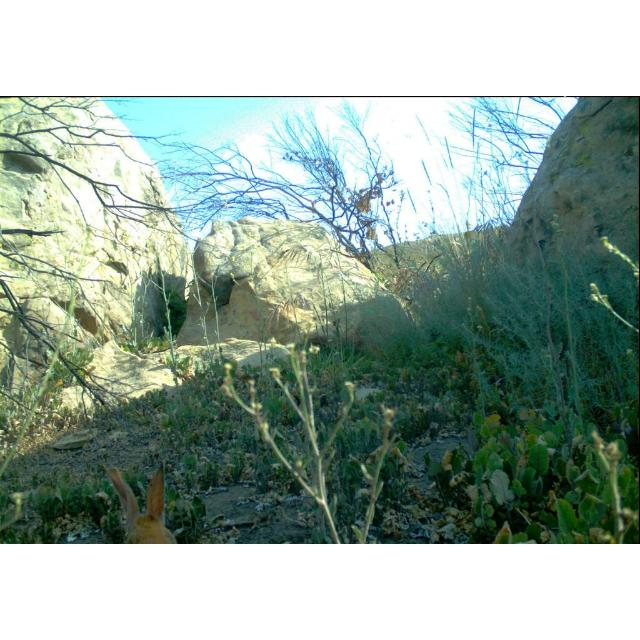animals: (100, 460, 186, 544)
